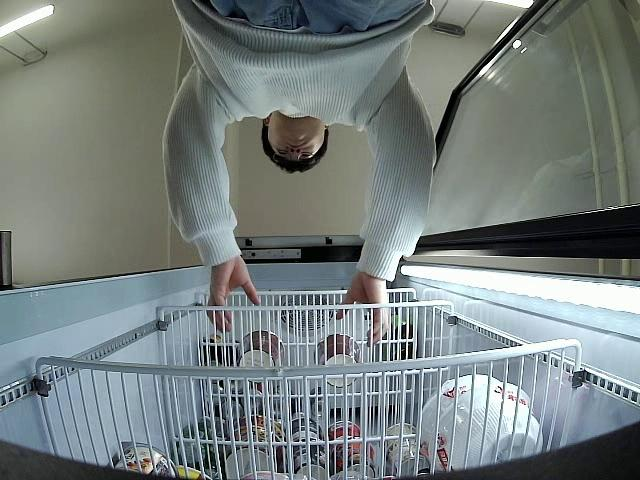00_hand: (337, 269, 392, 346), (207, 263, 261, 333)
